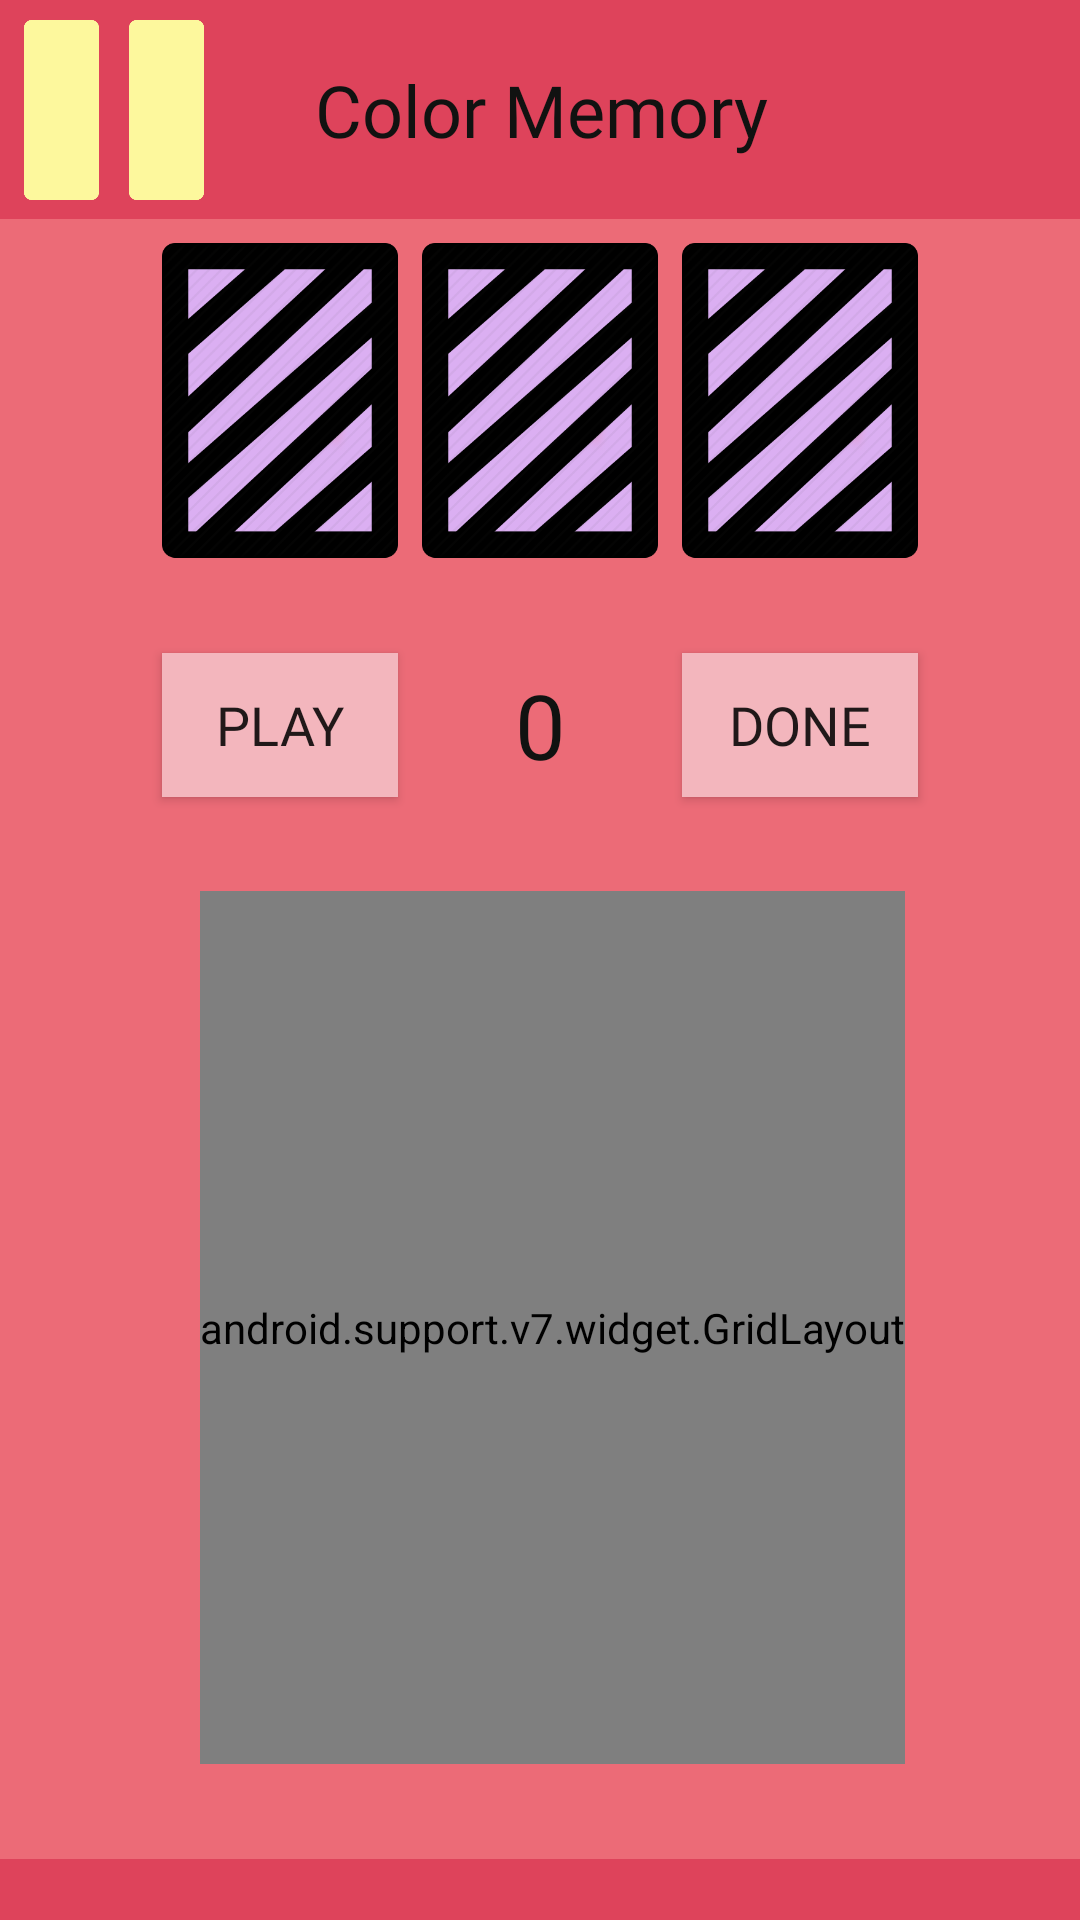

Icons on this 1080px x 1920px Android screen, each with its box as region(x1, y1, x2, y2):
pause: region(24, 20, 204, 200)
